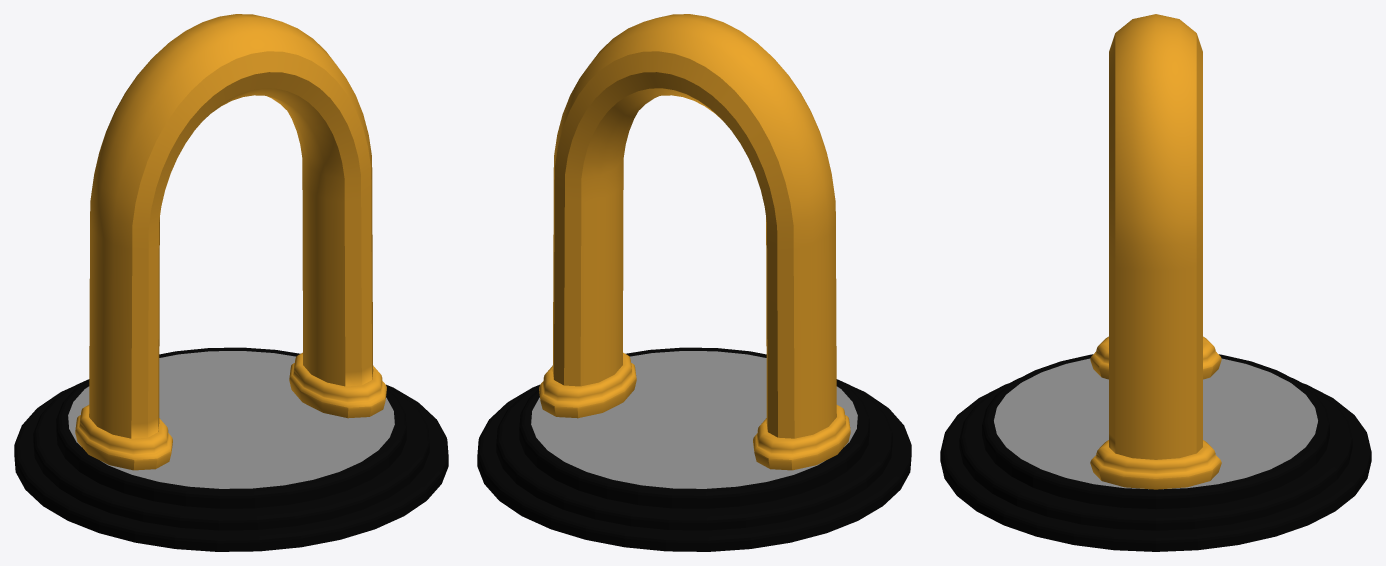
Rendered from Project02_Asset_Archway.fbx.
The picture shows the model from 3 angles, left to right: view 1: azimuth 30°, elevation 25°; view 2: azimuth 150°, elevation 25°; view 3: azimuth 270°, elevation 25°; orthographic projection.
Parts seen in each view (by area): view 1: Arch 2; view 2: Arch 2; view 3: Arch 2.
Part boxes in pixels (x1,y1,x2,y2): Arch 2: [14, 14, 448, 551]; Arch 2: [477, 14, 911, 551]; Arch 2: [940, 14, 1371, 551].
Bounding box in the file's own units: 275 × 307 × 275.
